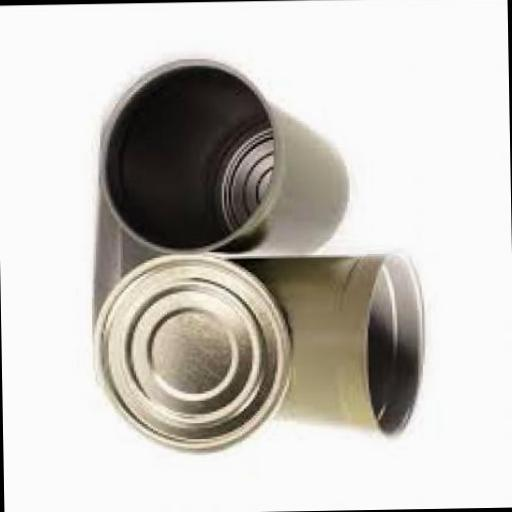metal: (95, 60, 355, 257), (91, 250, 296, 455), (223, 254, 426, 442)
